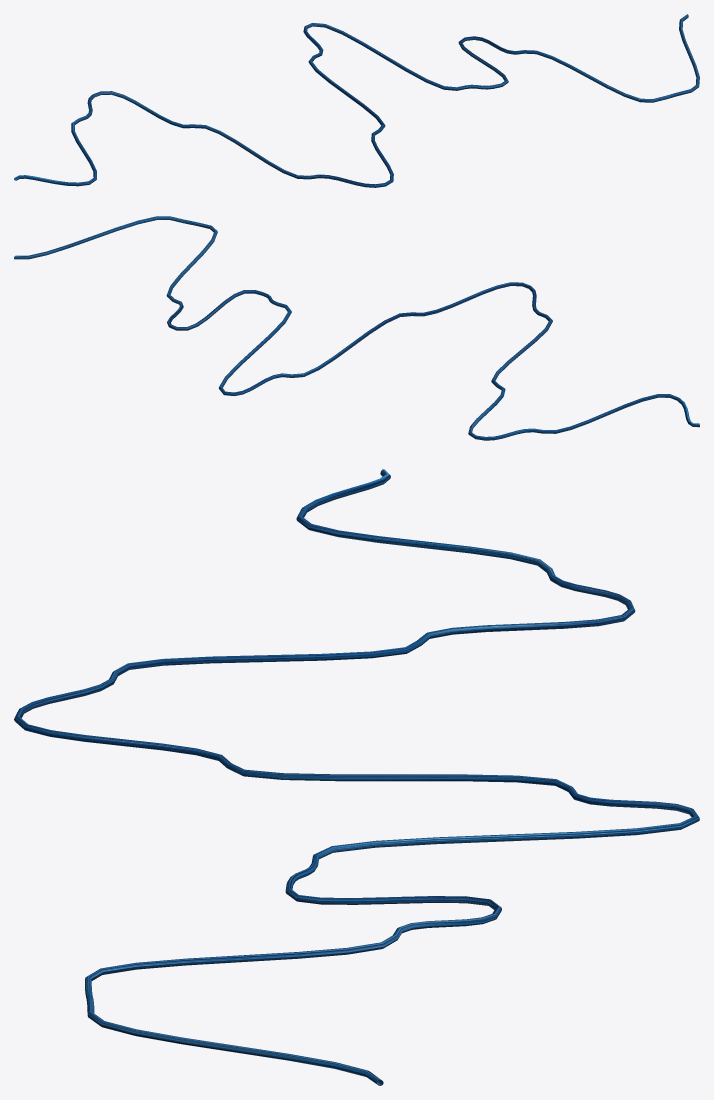
File: rope_2.dae
The picture shows the model from 3 angles, top to bottom: view 1: azimuth 30°, elevation 25°; view 2: azimuth 150°, elevation 25°; view 3: azimuth 270°, elevation 25°; orthographic projection. The views are drawn at different scales.
Parts seen in each view (by area): view 1: BezierCurve; view 2: BezierCurve; view 3: BezierCurve.
Part boxes in pixels (x1,y1,x2,y2): BezierCurve: (14,14,699,187); BezierCurve: (14,216,699,440); BezierCurve: (14,469,699,1085).
Size of the model in its own units: 25.04 by 11.87 by 0.1141.
